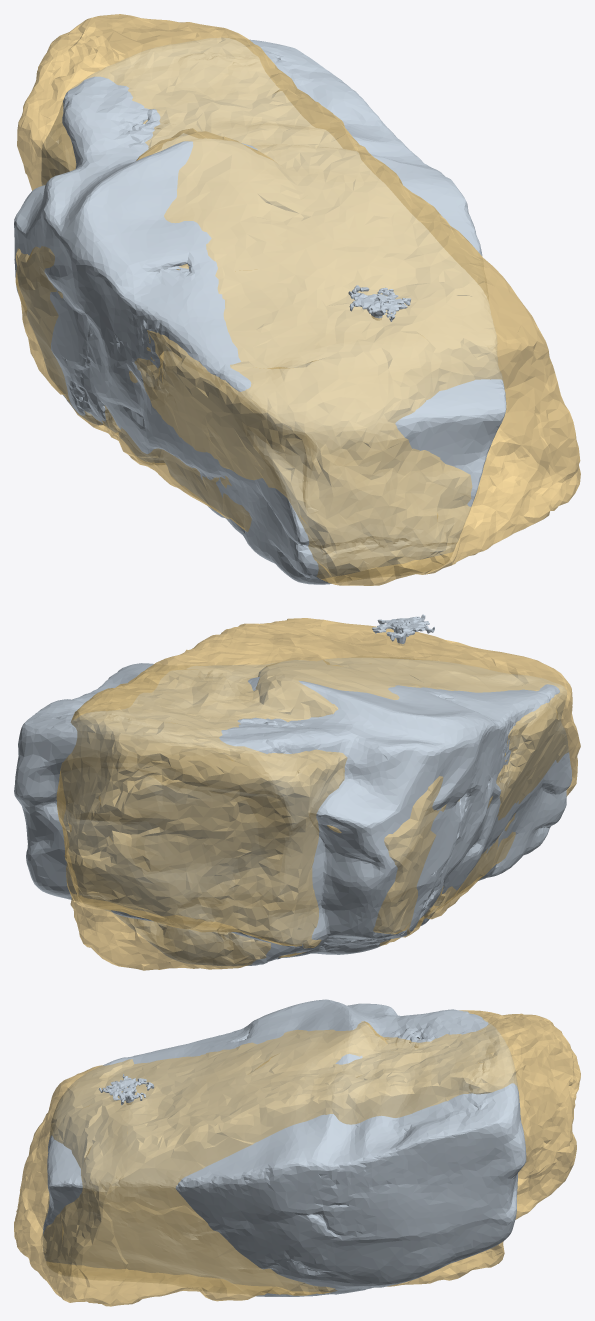
The picture shows the model from 3 angles, top to bottom: view 1: azimuth 30°, elevation 25°; view 2: azimuth 150°, elevation 25°; view 3: azimuth 270°, elevation 25°; orthographic projection. The views are drawn at different scales.
Parts seen in each view (by area): view 1: imagination, truth; view 2: imagination, truth; view 3: imagination, truth.
Boxes of the visible parts, left/top/right/bottom form: imagination: left=14, top=38, right=506, bottom=584; truth: left=15, top=14, right=580, bottom=585; imagination: left=14, top=614, right=572, bottom=965; truth: left=56, top=618, right=580, bottom=970; imagination: left=42, top=999, right=526, bottom=1296; truth: left=14, top=1010, right=580, bottom=1306.
Size of the model in its own units: 0.7422 by 0.6052 by 1.26.
